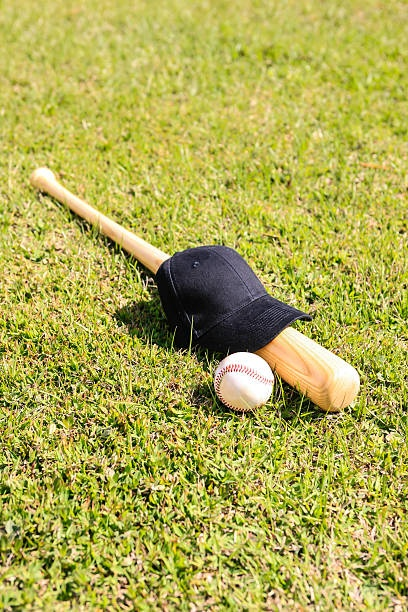bita: (35, 169, 354, 406)
